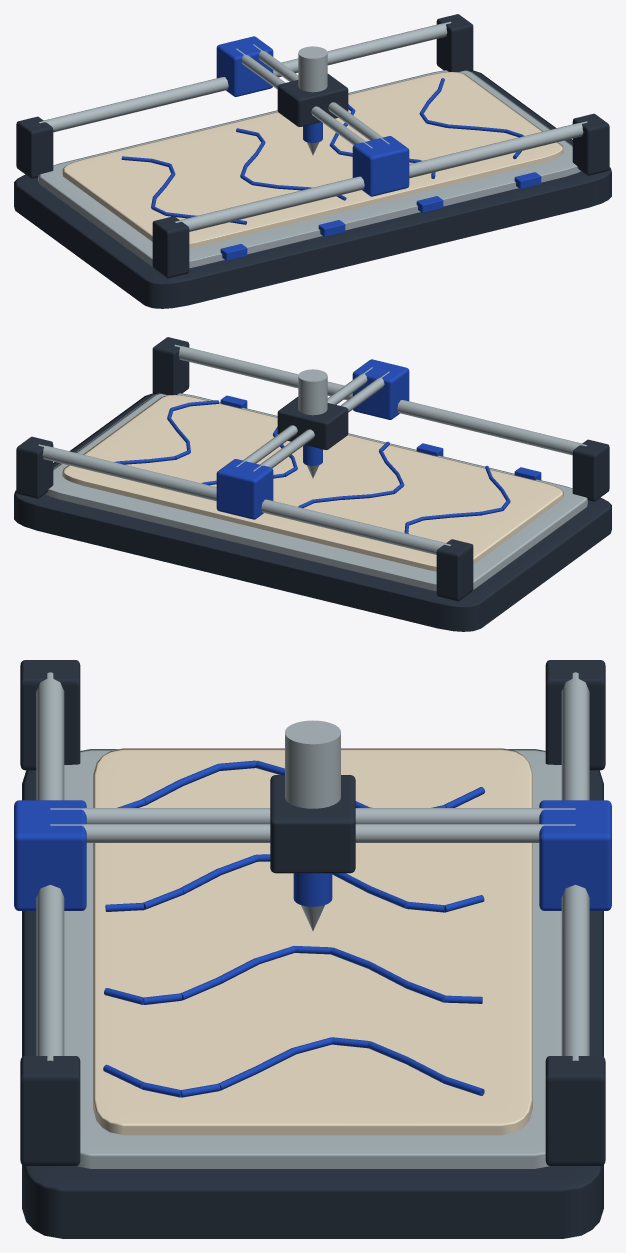
Rendered from plotter.glb.
3 views of the same model, one above another, from view 1: azimuth 30°, elevation 25°; view 2: azimuth 150°, elevation 25°; view 3: azimuth 270°, elevation 25° (orthographic). The views are drawn at different scales.
Parts seen in each view (by area): view 1: Verification plotter; view 2: Verification plotter; view 3: Verification plotter.
Boxes of the visible parts, x1=… form: Verification plotter: x1=14, y1=14, x2=611, y2=308; Verification plotter: x1=14, y1=337, x2=611, y2=631; Verification plotter: x1=14, y1=660, x2=611, y2=1238.
Size of the model in its own units: 3.28 by 1.01 by 1.89.
